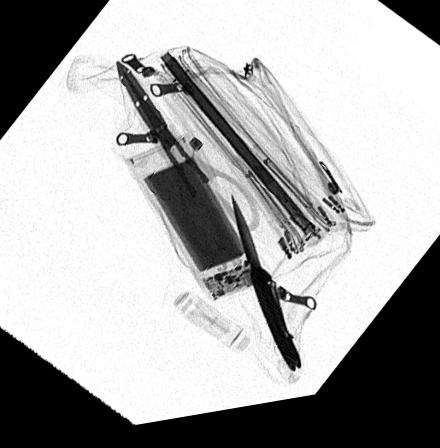Knife: (230, 202, 305, 382)
Powerbank: (124, 143, 263, 307)
Scissors: (114, 61, 260, 262)
